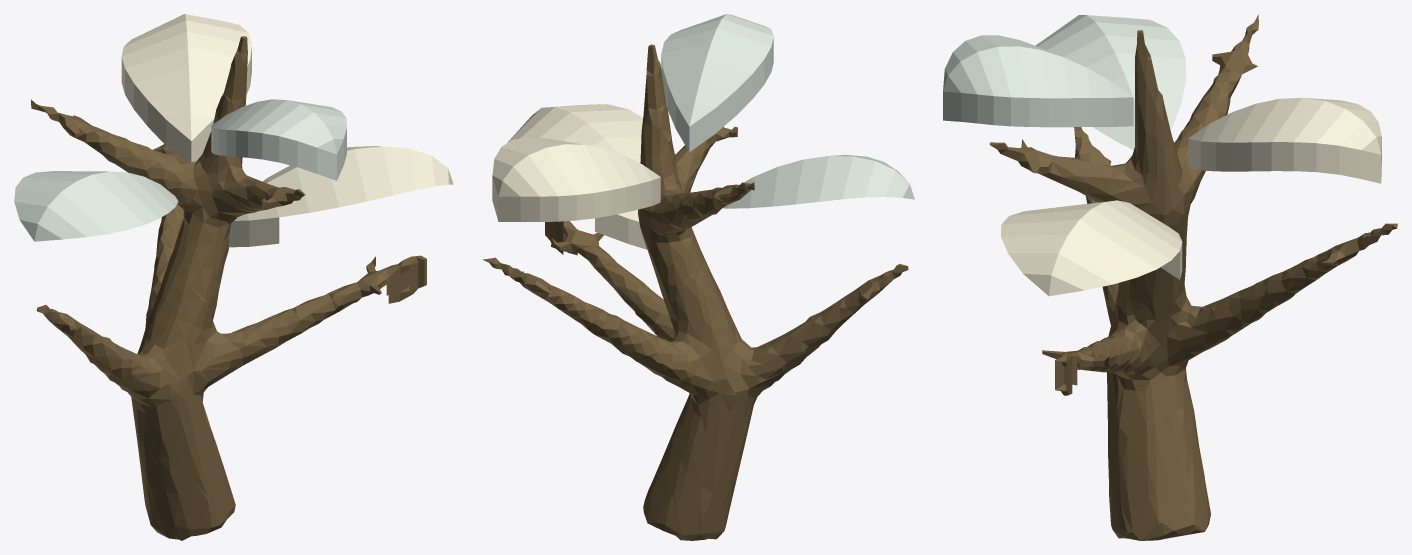
File: SNOWCAP_SHRUB.hi.glb
3 views of the same model, side by side, from view 1: azimuth 30°, elevation 25°; view 2: azimuth 150°, elevation 25°; view 3: azimuth 270°, elevation 25° (orthographic). The views are drawn at different scales.
Parts seen in each view (by area): view 1: SNOWCAP_SHRUB; view 2: SNOWCAP_SHRUB; view 3: SNOWCAP_SHRUB.
Part boxes in pixels (x1,y1,x2,y2): SNOWCAP_SHRUB: (14,14,453,540); SNOWCAP_SHRUB: (483,14,914,540); SNOWCAP_SHRUB: (943,14,1397,540).
Size of the model in its own units: 0.4409 by 0.497 by 0.3838.
Materials: 1 (1 with a texture image).
